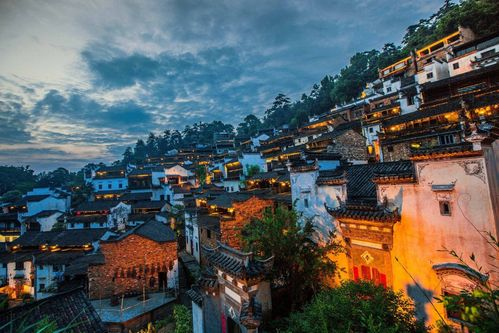buildings: (328, 28, 479, 174)
